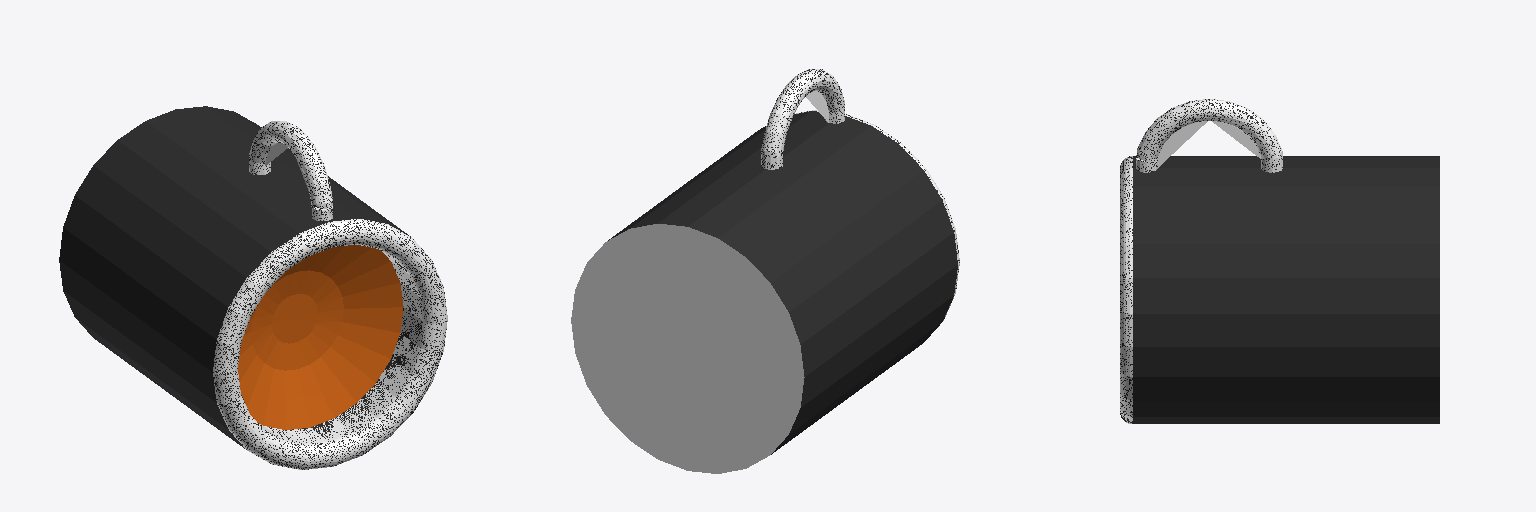
The model's file is model_align.obj.
3 views of the same model, side by side, from view 1: azimuth 30°, elevation 25°; view 2: azimuth 150°, elevation 25°; view 3: azimuth 270°, elevation 25° (orthographic).
Bounding box in the file's own units: 0.0881 × 0.1128 × 0.1049.